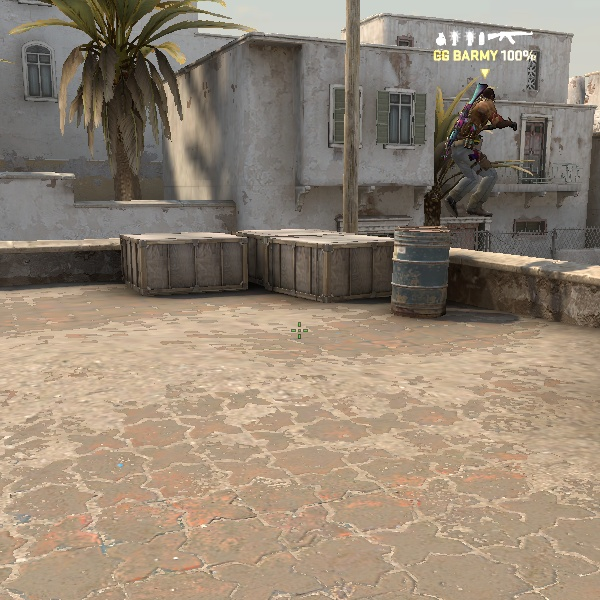t_body: (436, 80, 523, 229)
t_head: (467, 82, 500, 115)
